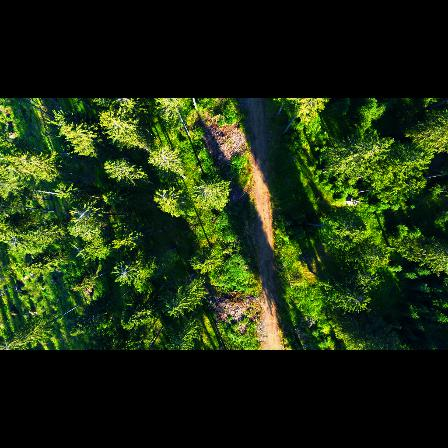Sick: (68, 204, 95, 225), (112, 262, 136, 284)
